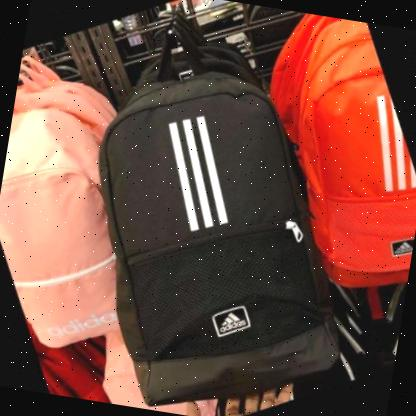bag: (61, 23, 388, 415), (0, 36, 183, 368)
